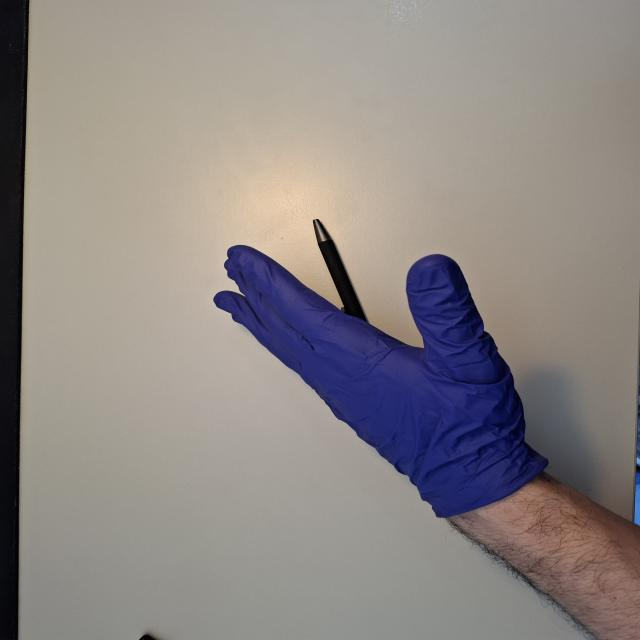glove_on: (211, 242, 527, 516)
